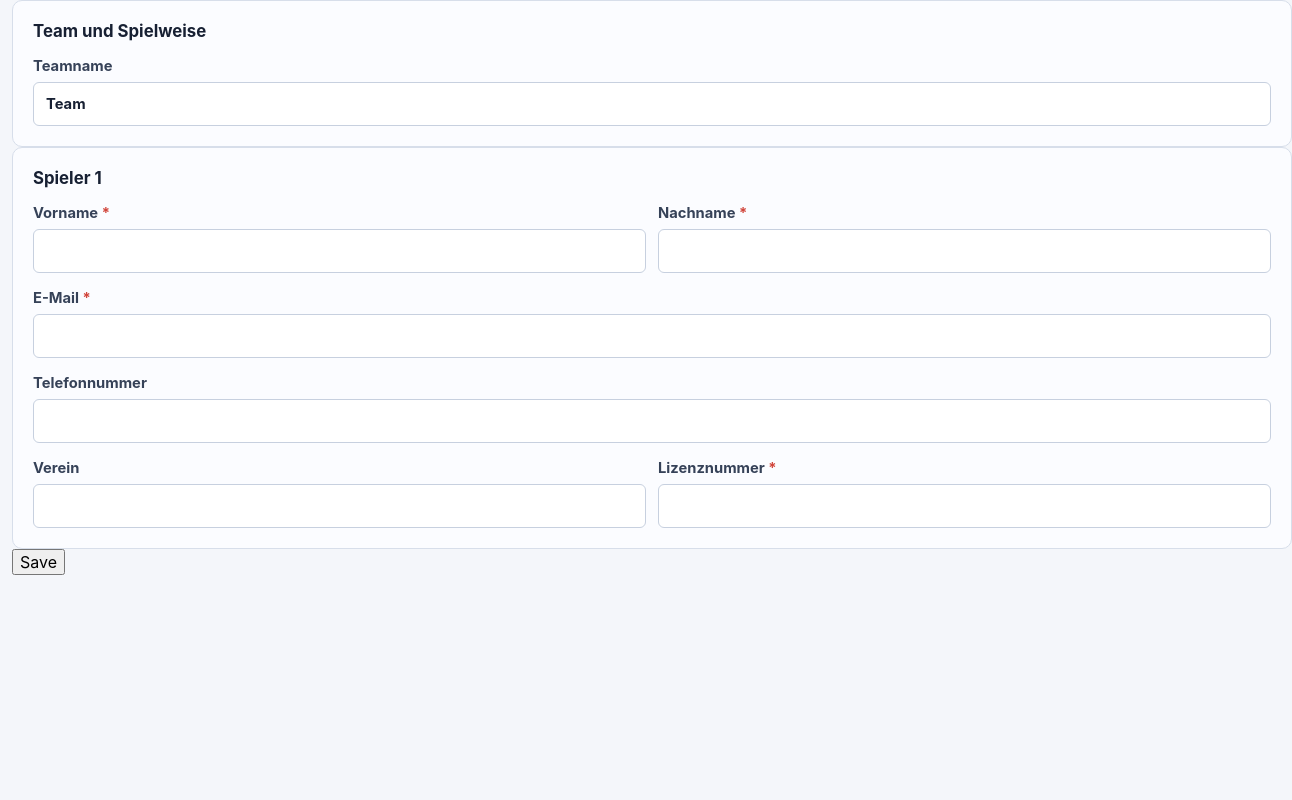
Test case: Registration player selection › keeps typing free when a suggestion is ignored
Type "Ann" into the dropdown labelled "Vorname *".
click(340, 251); type("Ann")  # box 33,229 -> 646,273
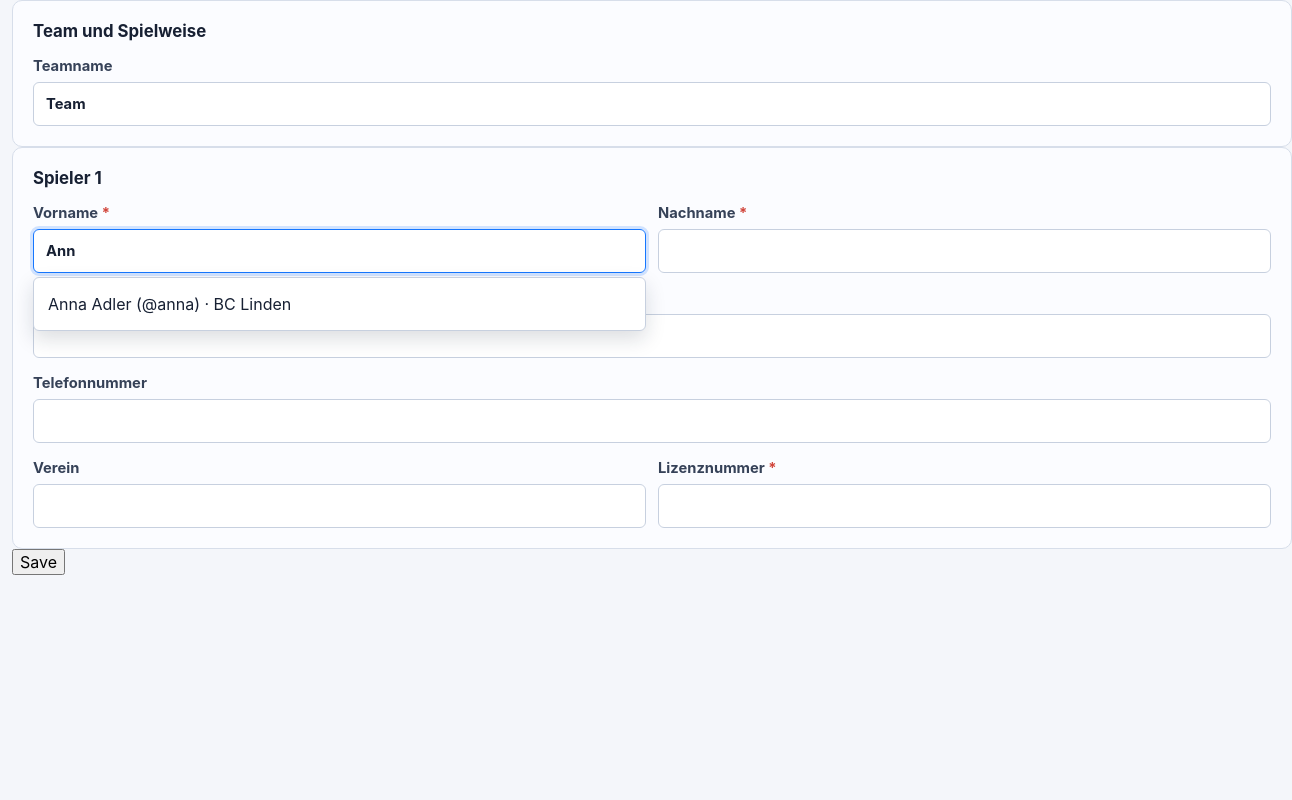
Expected: the option "Anna Adler (@anna) · BC Linden" is shown, 38,282 -> 641,326
Press Escape
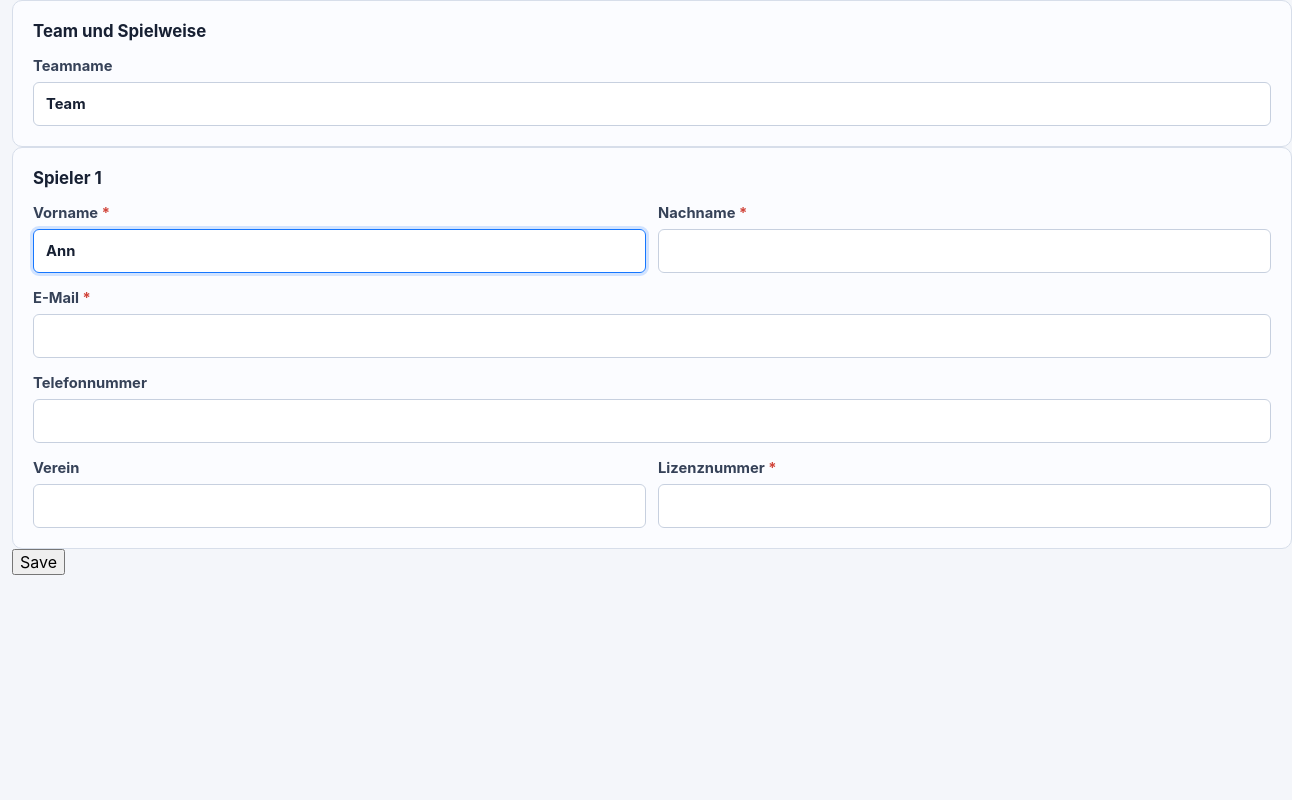
Expected: the list is gone
Type "ette" into the dropdown labelled "Vorname *".
click(340, 251); type("ette")  # box 33,229 -> 646,273
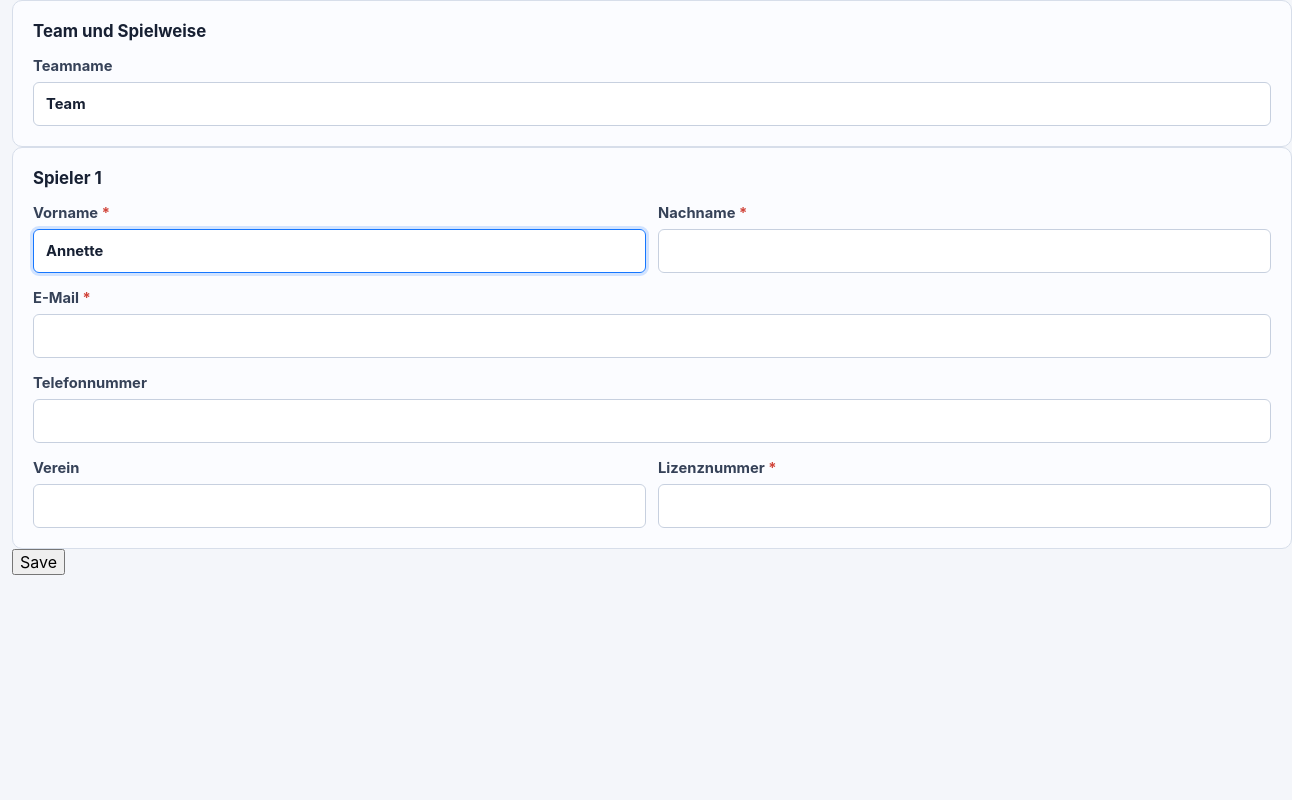
Expected: the dropdown labelled "Vorname *" holds "Annette", 33,229 -> 646,273
